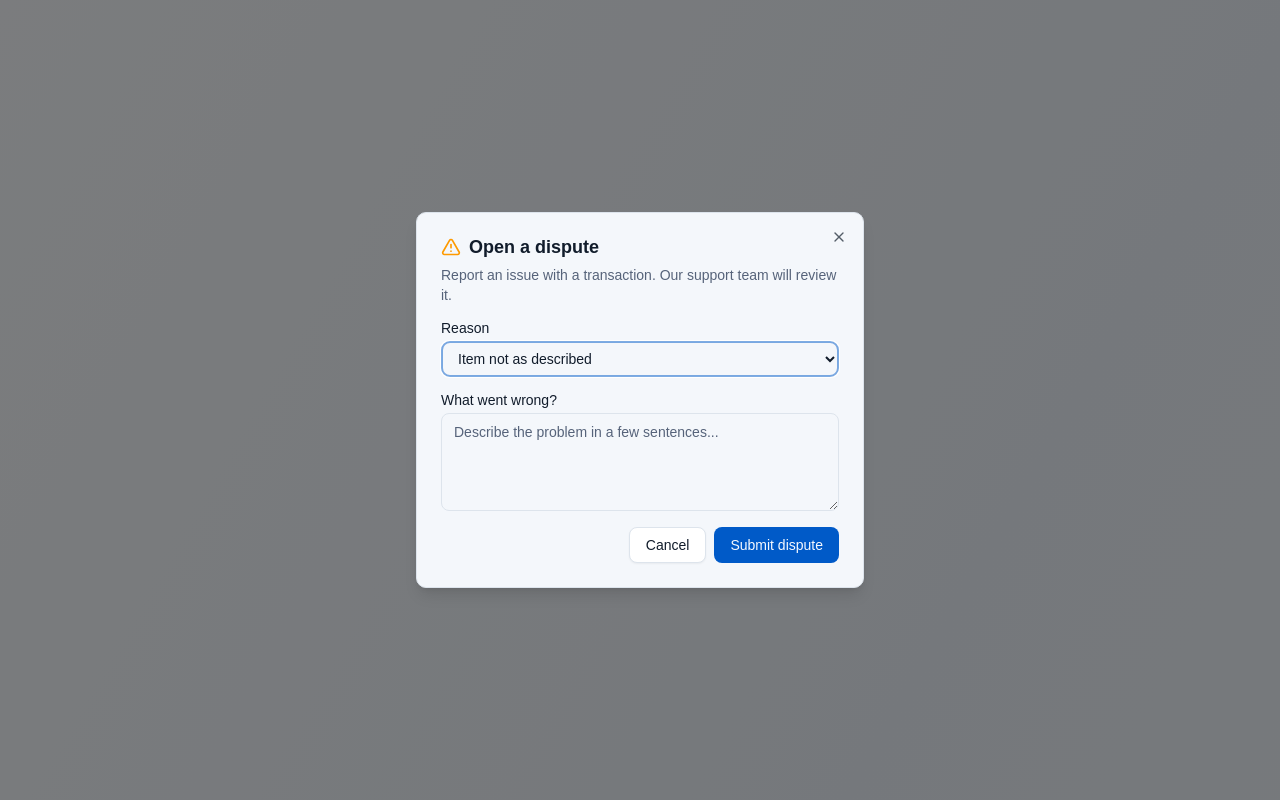
Test case: DisputeDialog (L4) › requires a description before submitting
This screenshot has width=1280, height=800.
Click the button with test id "dispute-submit" at [777, 545], box [714,527,839,563]
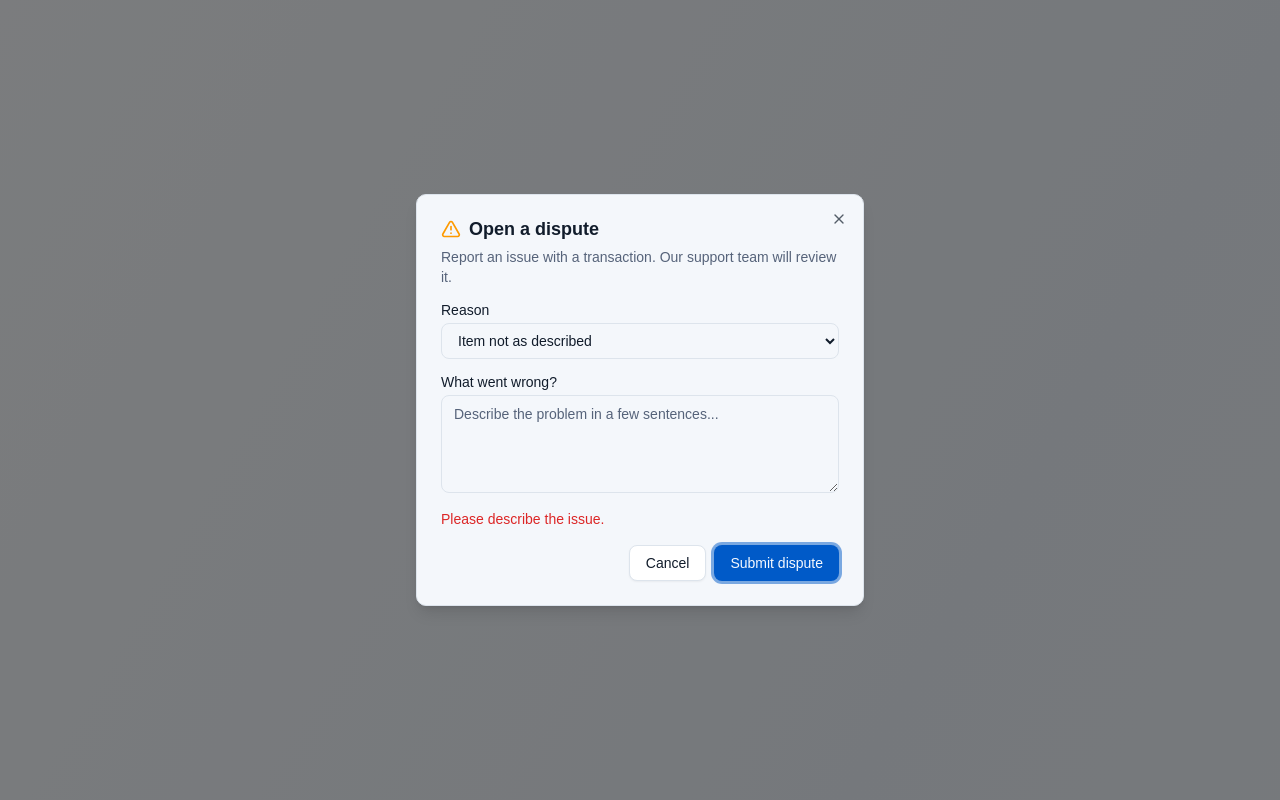
Result: the text "Please describe the issue." is shown at [441,511,604,527]
